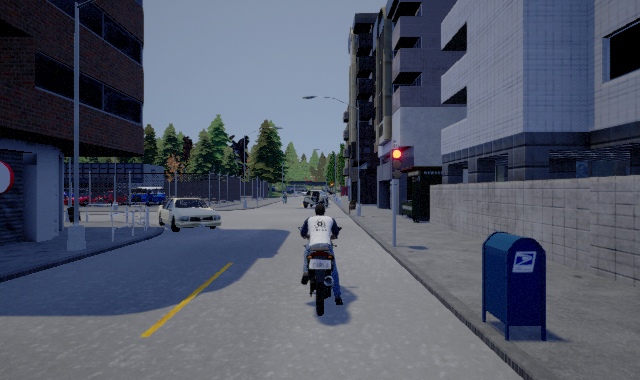motobike: (296, 206, 345, 317)
traffic_light: (391, 147, 402, 180)
traffic_sign: (1, 161, 14, 195)
vehicle: (157, 196, 222, 232), (302, 189, 329, 208)
